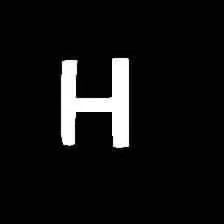LTR_H: (52, 49, 136, 154)
